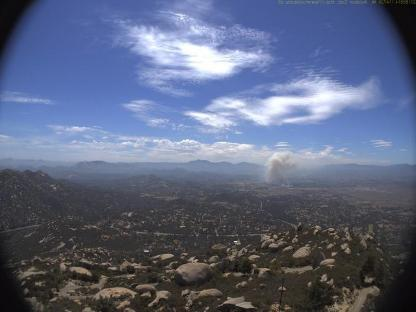smoke: (262, 148, 332, 186)
